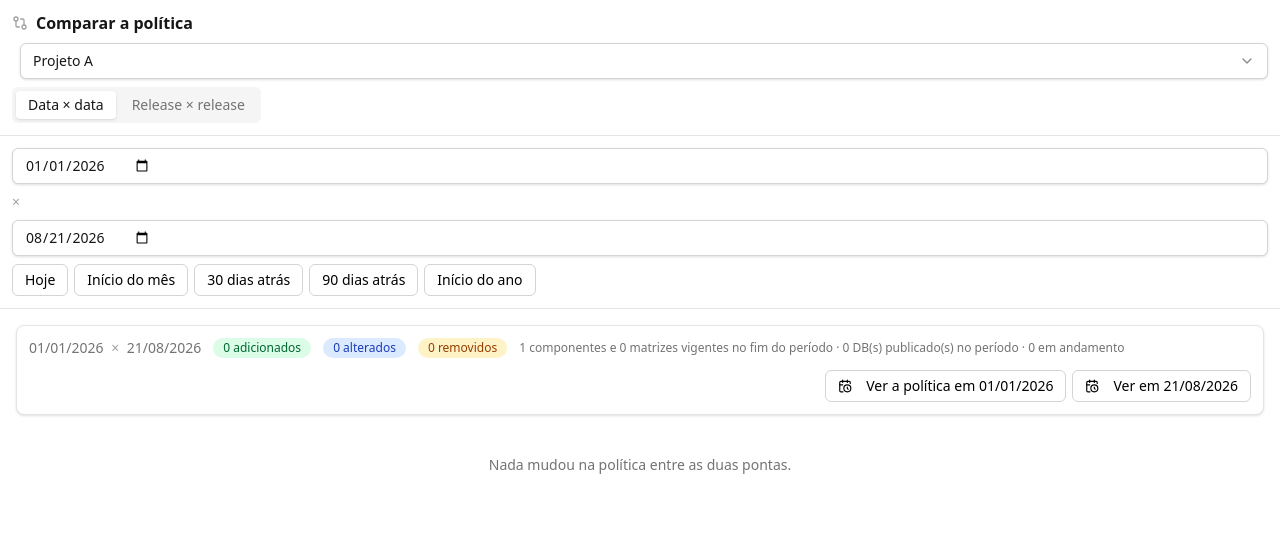
it: PolicyCompareScreen — release × release › a mesma release dos dois lados mostra o que ela mudou
Step 1. Click the tab "Release × release" → (188, 105), box left=120, top=91, right=257, bottom=119
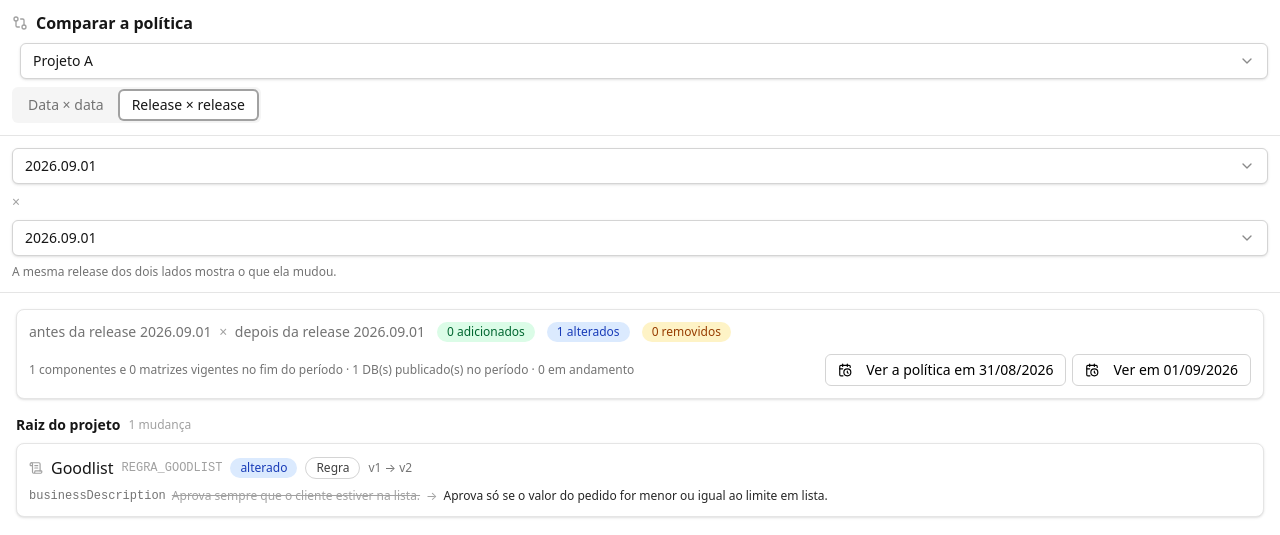
Check: the text "antes da release 2026.09.01 × depois da release 2026.09.01" is shown, box left=29, top=322, right=425, bottom=342
Check: the element with test id "policy-change-REGRA_GOODLIST" shows "v1 → v2", box left=16, top=443, right=1264, bottom=517
